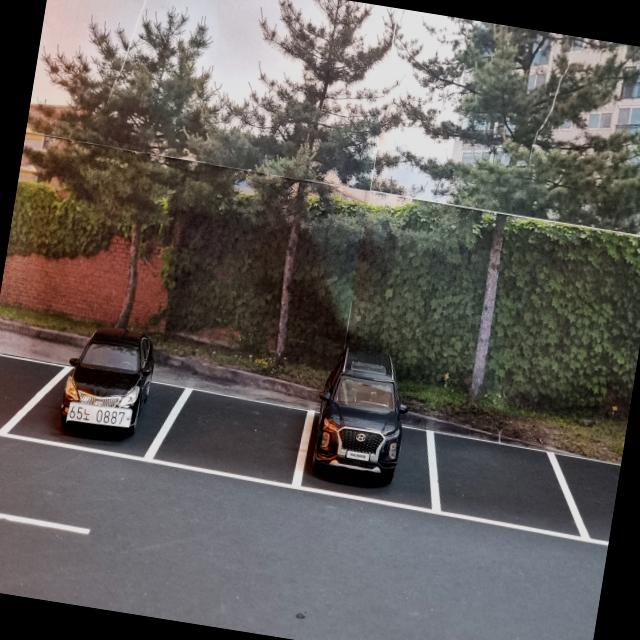car: (306, 346, 418, 494), (60, 316, 163, 436)
free: (414, 428, 580, 536), (164, 384, 308, 489), (0, 350, 68, 447), (567, 442, 624, 544)
